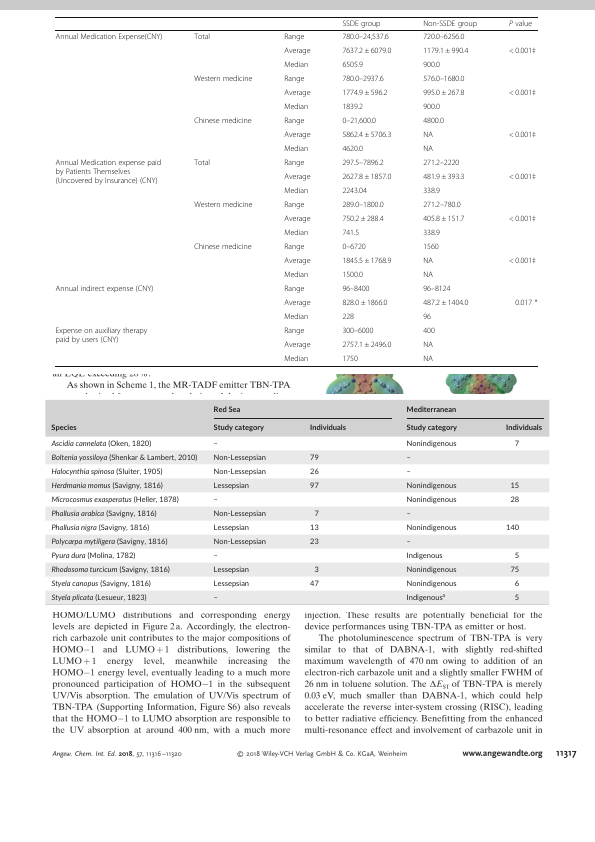borderless: (54, 15, 538, 366), (43, 399, 550, 606)
cell: (55, 158, 162, 186), (55, 326, 148, 345), (50, 452, 197, 464), (50, 494, 179, 506), (50, 564, 170, 576), (50, 536, 168, 548), (50, 466, 163, 478), (50, 480, 163, 492), (50, 508, 157, 520), (50, 438, 151, 450), (50, 578, 151, 590), (50, 522, 149, 534), (50, 592, 147, 604), (55, 32, 163, 42), (50, 550, 135, 562), (55, 284, 154, 294), (405, 403, 456, 416), (212, 452, 266, 464), (212, 466, 266, 478), (212, 508, 266, 520), (212, 536, 266, 548), (212, 422, 264, 434), (405, 422, 457, 434), (405, 438, 457, 450), (405, 480, 457, 492), (405, 494, 457, 506), (405, 522, 457, 534), (405, 564, 457, 576), (405, 578, 457, 590), (193, 74, 253, 84), (193, 200, 253, 210), (193, 116, 252, 126), (193, 242, 252, 252), (405, 591, 445, 604), (341, 46, 392, 56), (341, 130, 392, 140), (341, 172, 392, 182), (341, 256, 392, 266), (341, 340, 392, 350), (422, 19, 478, 28), (341, 32, 390, 42), (422, 46, 469, 56), (341, 88, 388, 98), (341, 298, 388, 308), (422, 298, 469, 308), (405, 550, 443, 562), (212, 480, 249, 492), (212, 522, 249, 534), (212, 564, 249, 576), (212, 578, 249, 590), (341, 214, 385, 224), (422, 32, 465, 42), (341, 74, 384, 84), (422, 74, 465, 84), (422, 88, 465, 98), (341, 158, 384, 168), (422, 172, 465, 182), (341, 200, 384, 210), (422, 214, 465, 224), (422, 200, 461, 210), (422, 158, 460, 168), (212, 403, 241, 416), (341, 19, 381, 28), (341, 116, 377, 126), (341, 326, 374, 336), (50, 422, 77, 434), (308, 424, 346, 432), (504, 424, 542, 432), (508, 46, 537, 56), (508, 88, 537, 98), (508, 130, 537, 140), (508, 172, 537, 182), (508, 214, 537, 224), (508, 256, 537, 266), (341, 284, 370, 294), (422, 284, 451, 294), (283, 46, 311, 56), (283, 88, 311, 98), (283, 130, 311, 140), (283, 172, 311, 182), (283, 214, 311, 224), (283, 256, 311, 266), (283, 298, 311, 308), (283, 340, 311, 350), (341, 186, 368, 196), (283, 60, 309, 70), (283, 102, 309, 112), (283, 144, 309, 154), (283, 186, 309, 196), (283, 228, 309, 238), (341, 242, 367, 252), (283, 270, 309, 280), (283, 312, 309, 322), (283, 354, 309, 364), (514, 298, 538, 308), (341, 60, 364, 70), (341, 102, 364, 112), (422, 116, 445, 126), (341, 144, 364, 154), (341, 270, 364, 280), (508, 19, 533, 28), (283, 32, 305, 42), (283, 74, 305, 84), (283, 116, 305, 126), (283, 158, 305, 168), (283, 200, 305, 210), (283, 242, 305, 252), (283, 284, 305, 294), (283, 326, 305, 336), (422, 60, 441, 70), (422, 102, 441, 112), (422, 186, 441, 196), (341, 228, 360, 238), (422, 228, 441, 238), (193, 32, 211, 42), (193, 158, 211, 168), (422, 242, 440, 252), (341, 354, 359, 364), (341, 312, 355, 322), (422, 326, 436, 336), (308, 452, 319, 464), (308, 466, 319, 478), (308, 480, 319, 492), (422, 130, 434, 140), (422, 144, 434, 154), (422, 256, 434, 266), (422, 270, 434, 280), (422, 340, 434, 350), (422, 354, 434, 364), (504, 525, 519, 532), (422, 312, 432, 322), (308, 525, 319, 532), (308, 539, 319, 546), (308, 581, 319, 588), (513, 578, 519, 590), (509, 483, 519, 490), (509, 497, 519, 504), (509, 567, 519, 574), (212, 441, 218, 448), (513, 441, 519, 448), (405, 455, 411, 462), (405, 469, 411, 476), (212, 497, 218, 504), (313, 511, 319, 518), (405, 511, 411, 518), (405, 539, 411, 546), (212, 553, 218, 560), (513, 553, 519, 560), (313, 567, 319, 574), (212, 595, 218, 602), (513, 595, 519, 602)
